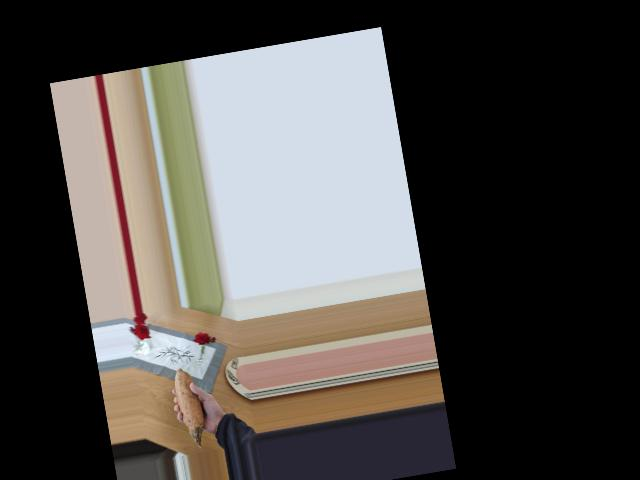sweet_potato: (168, 362, 214, 443)
